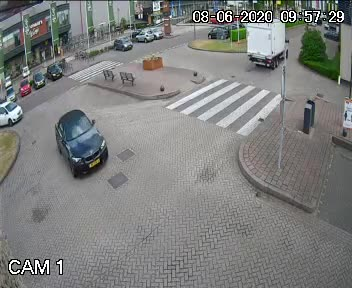car: (41, 108, 112, 184), (236, 14, 297, 81), (0, 97, 25, 129)
